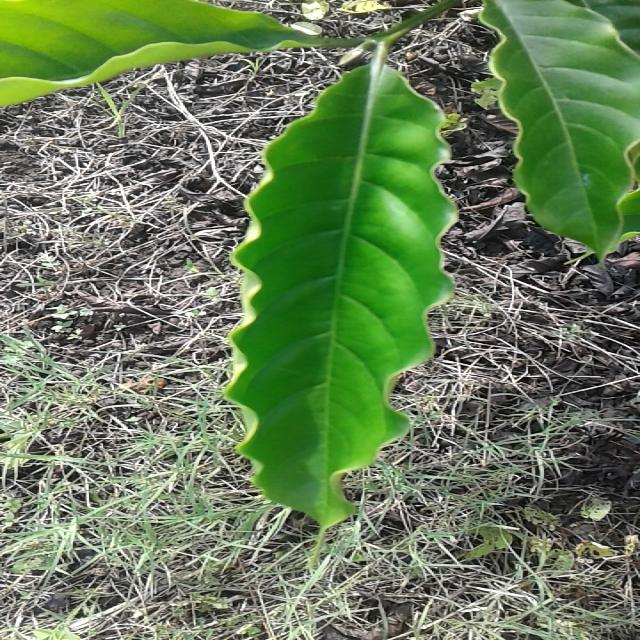Sanas: (223, 46, 457, 548)
